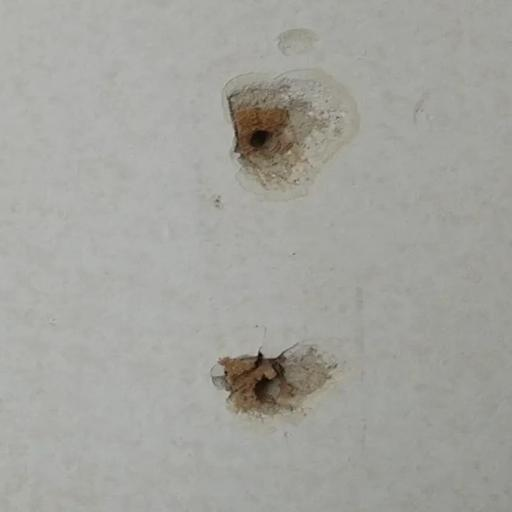spalling: (208, 34, 373, 211), (181, 321, 355, 438)
